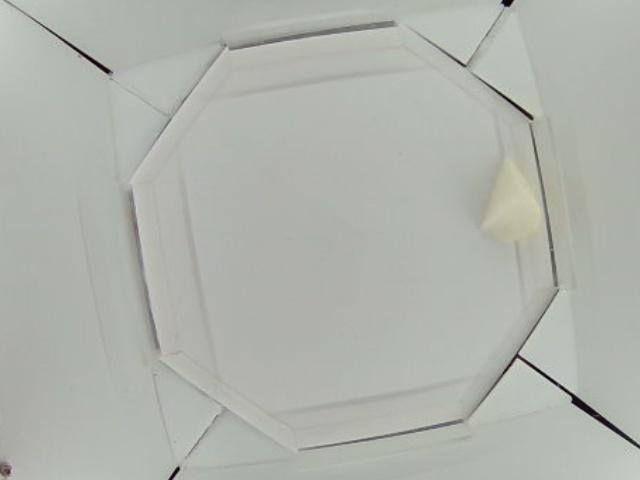Mooli: (481, 156, 545, 241)
